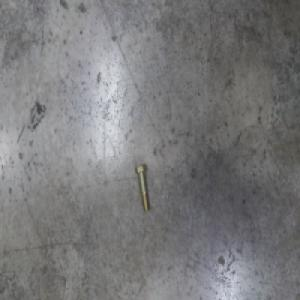Bolt: (134, 162, 149, 212)
